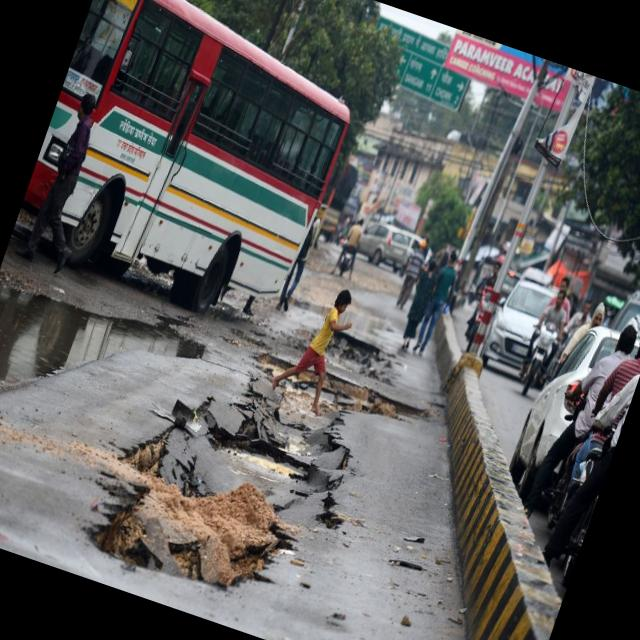Potholes: (69, 368, 414, 640), (218, 252, 470, 493)
